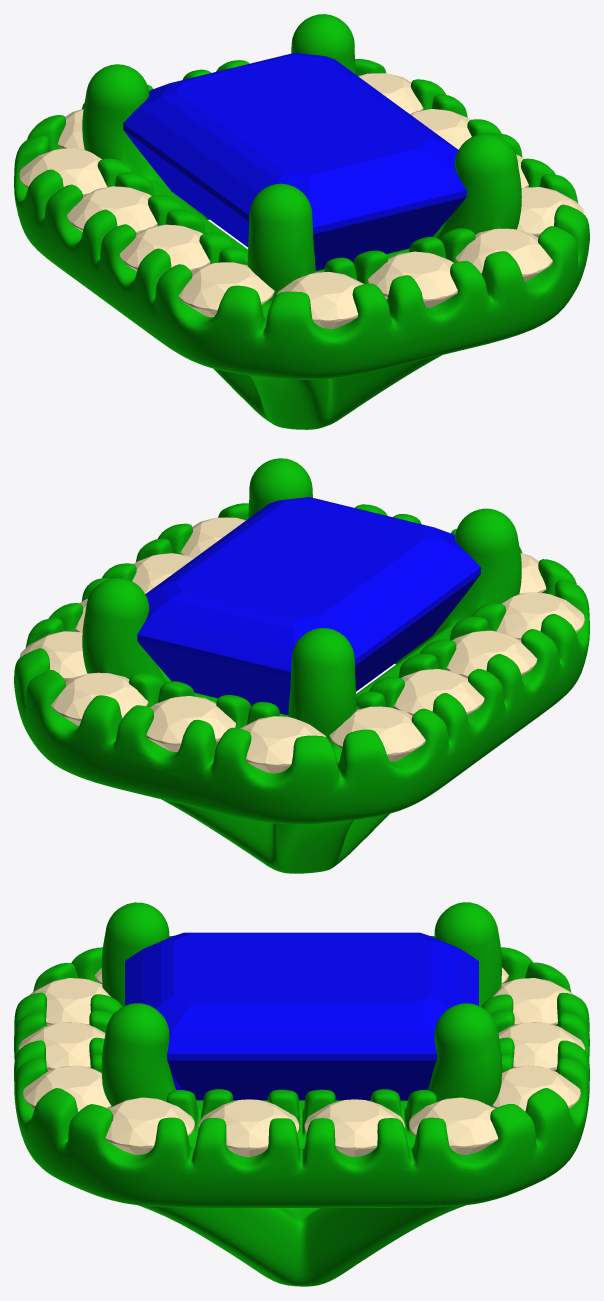
3 views of the same model, one above another, from view 1: azimuth 30°, elevation 25°; view 2: azimuth 150°, elevation 25°; view 3: azimuth 270°, elevation 25° (orthographic).
Parts seen in each view (by area): view 1: Metal01, Diamond_Emerald, Diamond_Round.013, Diamond_Round.011, Diamond_Round.012, Diamond_Round.007, Diamond_Round.010, Diamond_Round.003, Diamond_Round.002, Diamond_Round.008, Diamond_Round.004, Diamond_Round.005 (+1 smaller); view 2: Metal01, Diamond_Emerald, Diamond_Round, Diamond_Round.001, Diamond_Round.002, Diamond_Round.006, Diamond_Round.003, Diamond_Round.010, Diamond_Round.011, Diamond_Round.005, Diamond_Round.009, Diamond_Round.008 (+1 smaller); view 3: Metal01, Diamond_Emerald, Diamond_Round.008, Diamond_Round.005, Diamond_Round.004, Diamond_Round.009, Diamond_Round, Diamond_Round.013, Diamond_Round.007, Diamond_Round.006, Diamond_Round.012, Diamond_Round.001.
Boxes of the visible parts, left/top/right/bottom form: Metal01: left=14, top=14, right=589, bottom=429; Diamond_Emerald: left=123, top=52, right=466, bottom=270; Diamond_Round.013: left=368, top=251, right=457, bottom=307; Diamond_Round.011: left=178, top=262, right=274, bottom=317; Diamond_Round.012: left=276, top=272, right=364, bottom=328; Diamond_Round.007: left=455, top=228, right=552, bottom=281; Diamond_Round.010: left=119, top=224, right=210, bottom=271; Diamond_Round.003: left=67, top=186, right=157, bottom=234; Diamond_Round.002: left=19, top=148, right=107, bottom=196; Diamond_Round.008: left=517, top=187, right=584, bottom=237; Diamond_Round.004: left=410, top=109, right=471, bottom=149; Diamond_Round.005: left=358, top=73, right=423, bottom=113; Metal01: left=14, top=458, right=589, bottom=873; Diamond_Emerald: left=137, top=497, right=480, bottom=715; Diamond_Round: left=146, top=696, right=235, bottom=751; Diamond_Round.001: left=239, top=716, right=326, bottom=773; Diamond_Round.002: left=329, top=706, right=425, bottom=761; Diamond_Round.006: left=51, top=672, right=148, bottom=725; Diamond_Round.003: left=393, top=669, right=484, bottom=715; Diamond_Round.010: left=446, top=630, right=537, bottom=678; Diamond_Round.011: left=496, top=592, right=584, bottom=640; Diamond_Round.005: left=19, top=631, right=87, bottom=681; Diamond_Round.009: left=132, top=553, right=193, bottom=593; Diamond_Round.008: left=180, top=517, right=245, bottom=558; Metal01: left=14, top=902, right=589, bottom=1286; Diamond_Emerald: left=125, top=932, right=478, bottom=1100; Diamond_Round.008: left=105, top=1097, right=194, bottom=1154; Diamond_Round.005: left=409, top=1097, right=498, bottom=1154; Diamond_Round.004: left=304, top=1099, right=404, bottom=1156; Diamond_Round.009: left=199, top=1099, right=299, bottom=1156; Diamond_Round: left=498, top=1022, right=584, bottom=1070; Diamond_Round.013: left=19, top=1022, right=105, bottom=1070; Diamond_Round.007: left=23, top=1065, right=111, bottom=1111; Diamond_Round.006: left=492, top=1065, right=580, bottom=1111; Diamond_Round.012: left=29, top=978, right=110, bottom=1025; Diamond_Round.001: left=493, top=978, right=573, bottom=1025.
Bounding box in the file's own units: 7.2 × 5.24 × 8.62.
